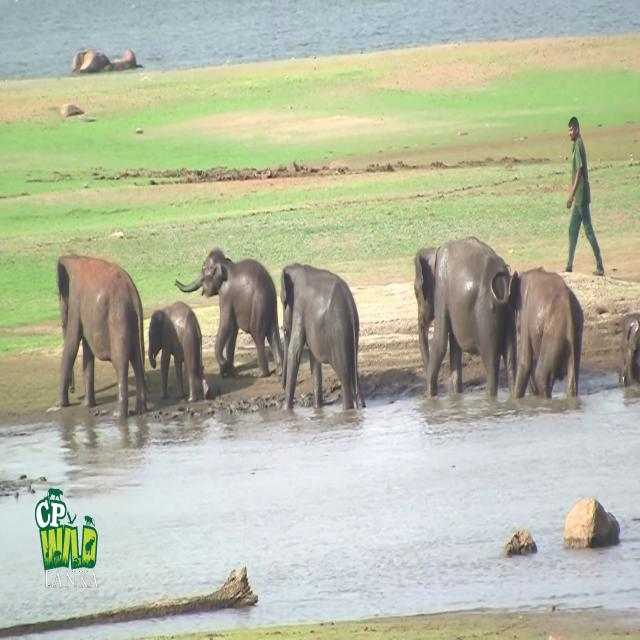Elephant: (414, 235, 517, 400), (56, 252, 149, 417), (175, 247, 283, 379), (280, 262, 366, 412), (491, 266, 584, 399), (148, 300, 210, 402), (618, 311, 640, 387)
person: (566, 116, 604, 275)
